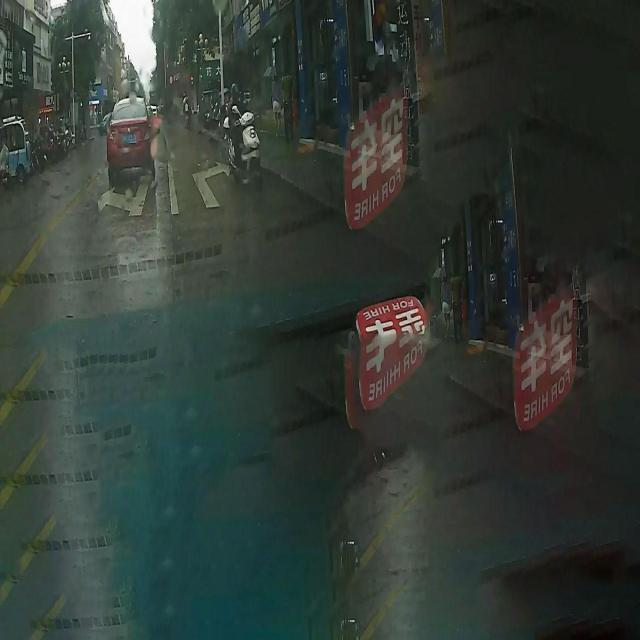car: (106, 95, 154, 181)
